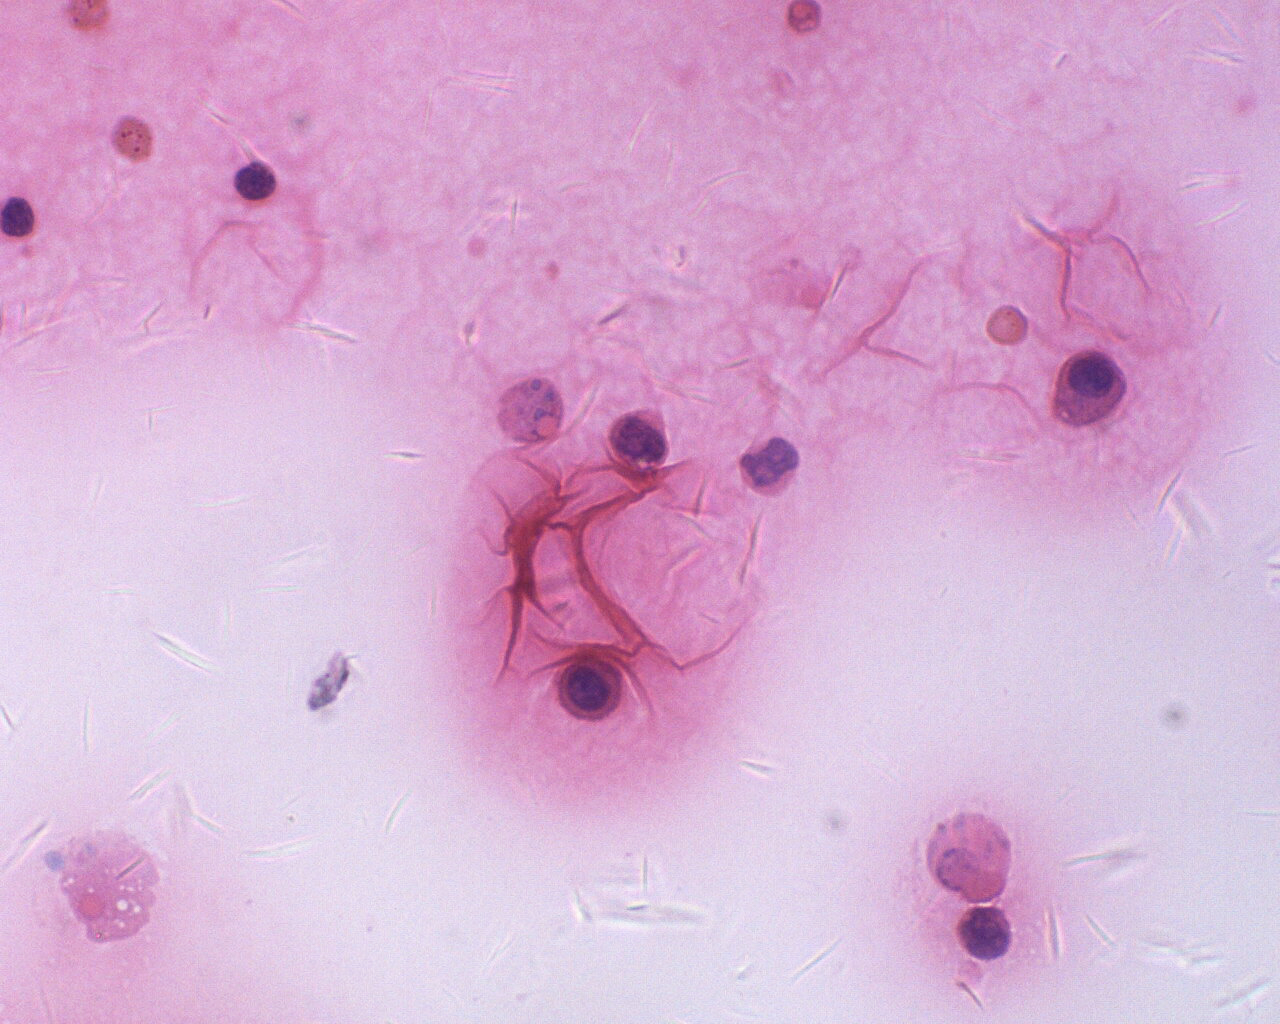ab: (946, 904, 1013, 962)
lymph: (230, 158, 279, 206)
meso: (1045, 343, 1134, 436), (552, 654, 627, 721)
